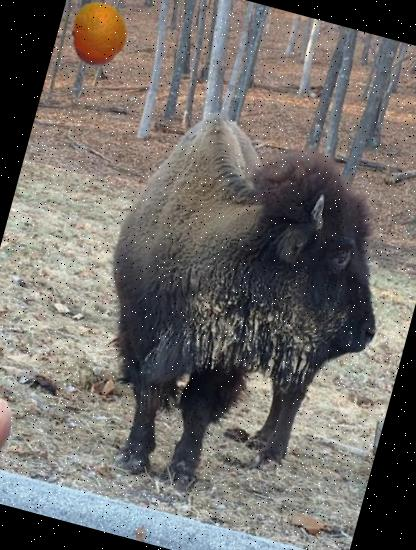Hazelnut: (0, 387, 36, 478)
Mandarine: (59, 0, 140, 75)
